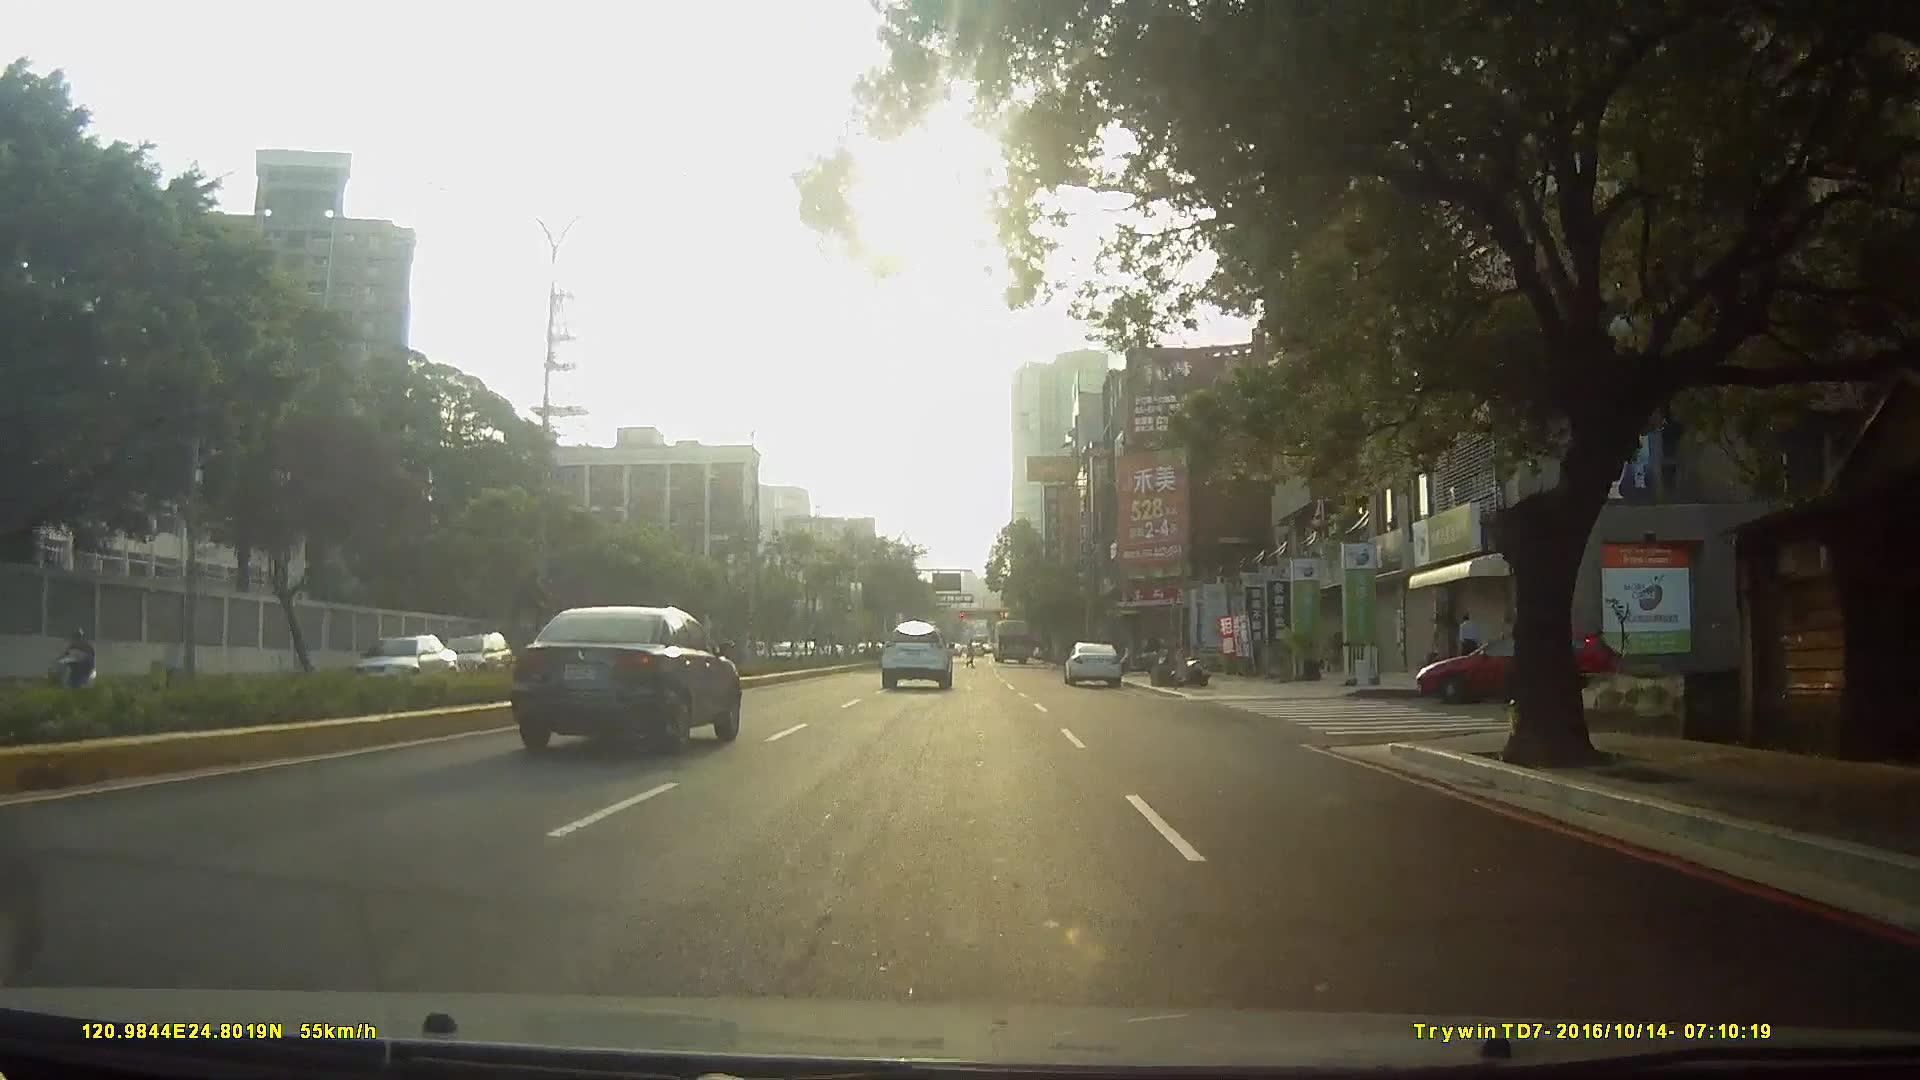pedestrian: (1457, 615, 1480, 683)
rider: (47, 623, 94, 699)
vehicle: (516, 604, 747, 751), (1412, 614, 1633, 705), (345, 625, 470, 697), (880, 619, 954, 687), (438, 614, 519, 668), (1062, 639, 1125, 686), (989, 615, 1033, 663)
